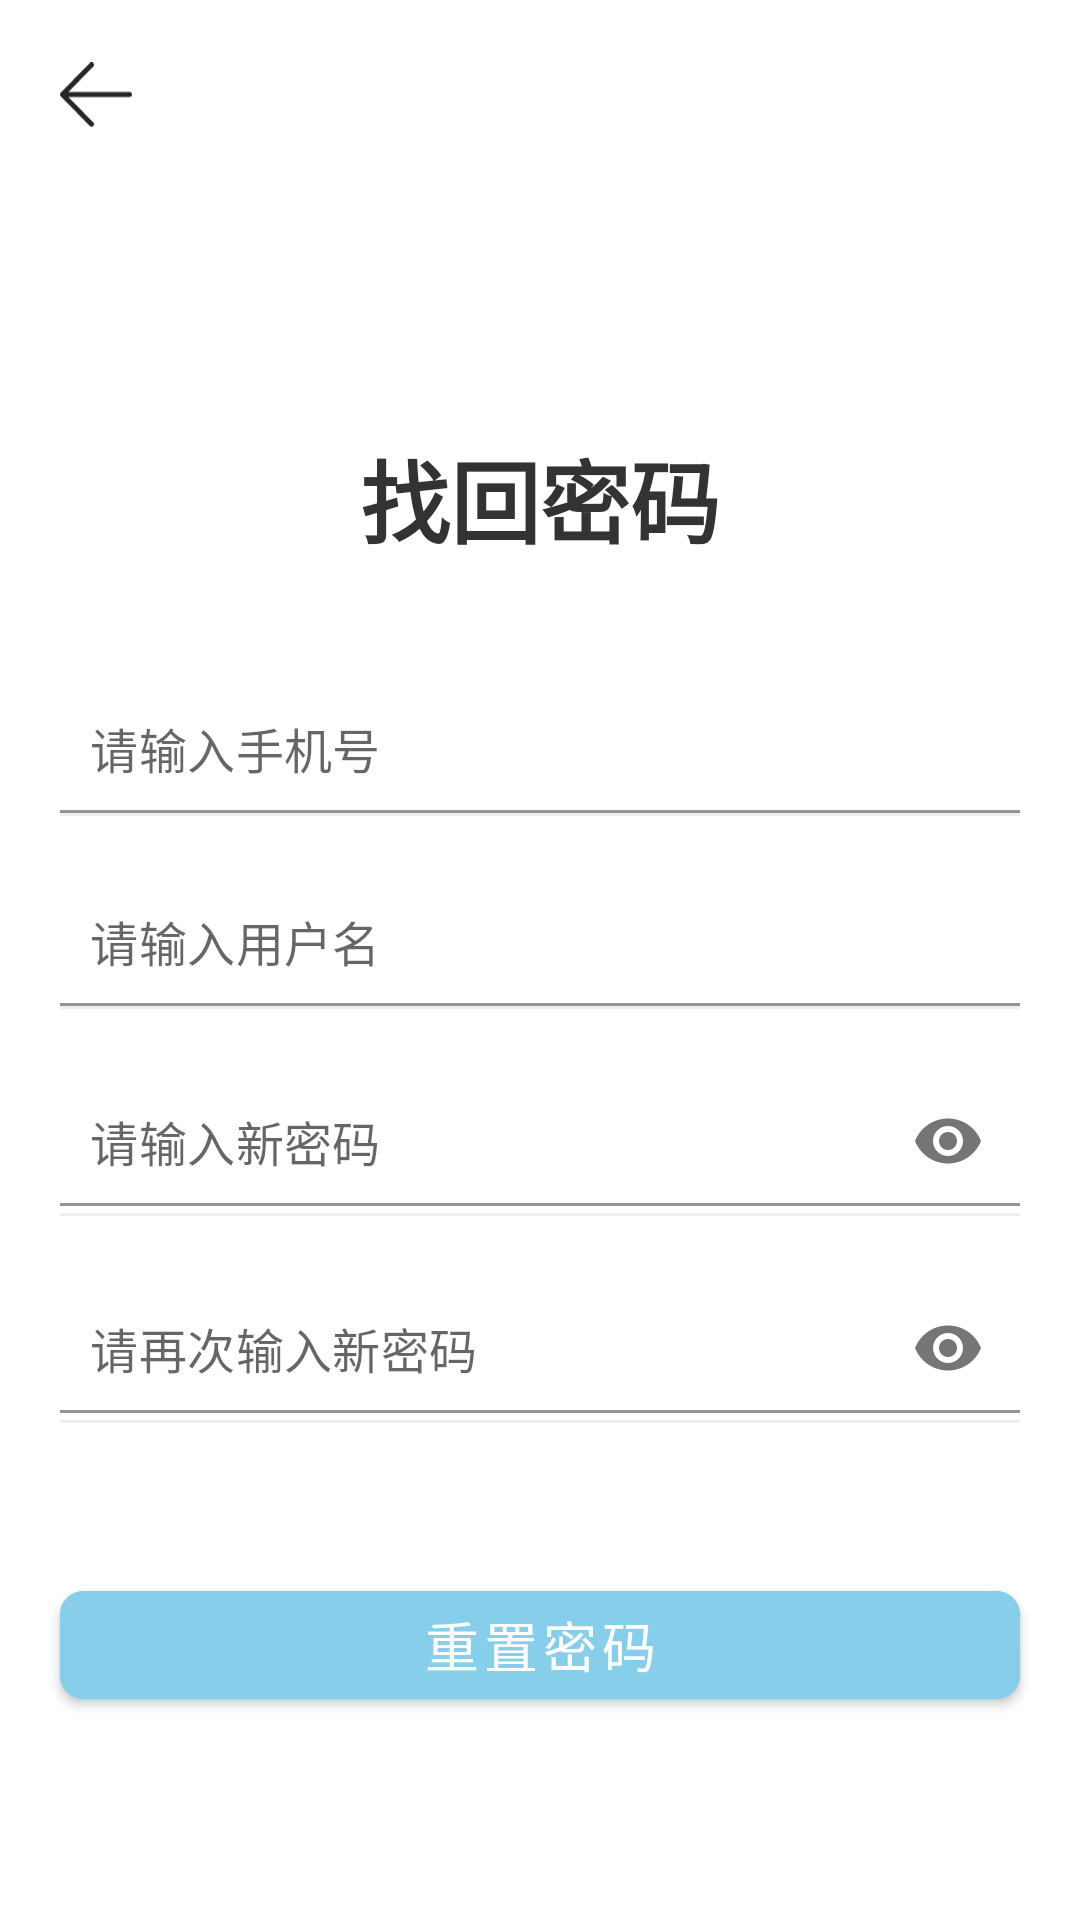

Icons on this 1080px x 1920px Android screen, each with the point to tap as [x,y]:
back: [96,94]
